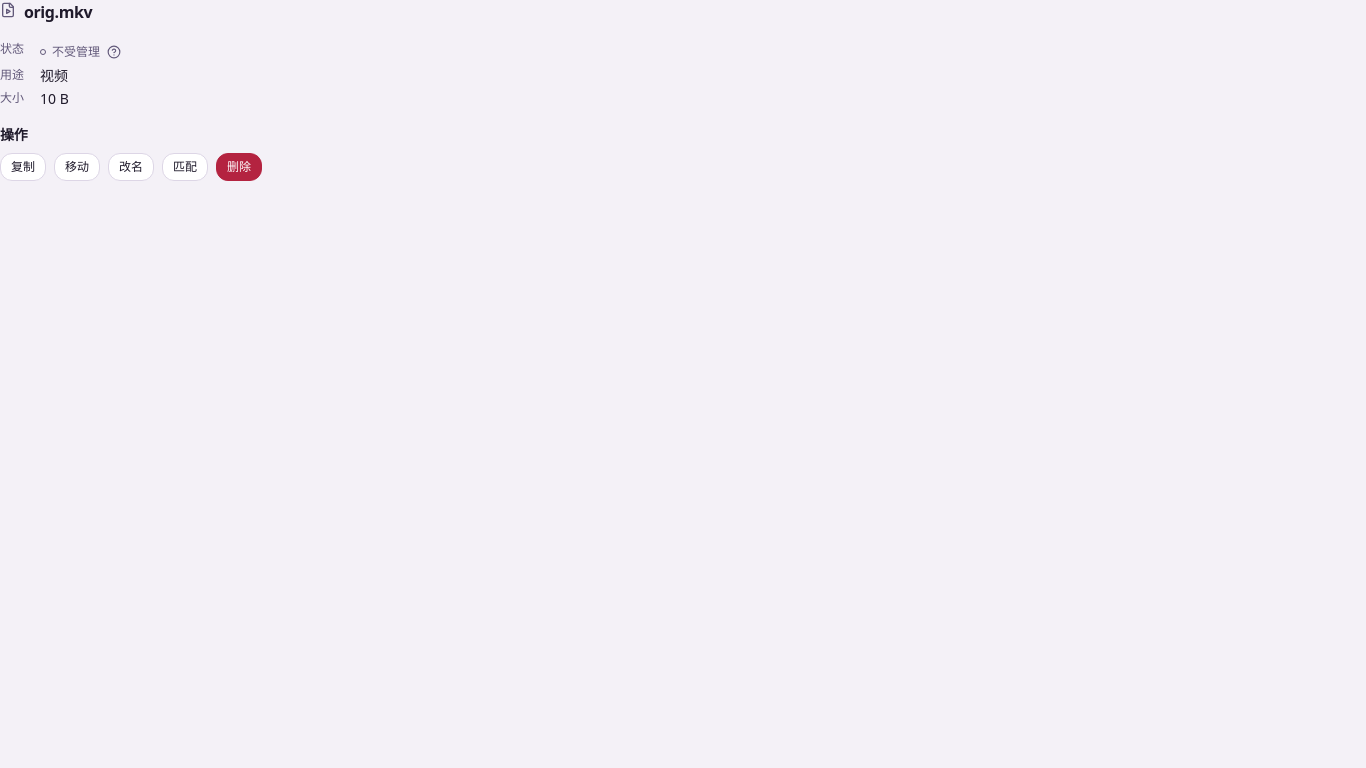
match dialog › falls back to manual season and episode when the anime has no TMDB binding
Click the button "匹配" at (185, 166), box [162, 152, 208, 180]
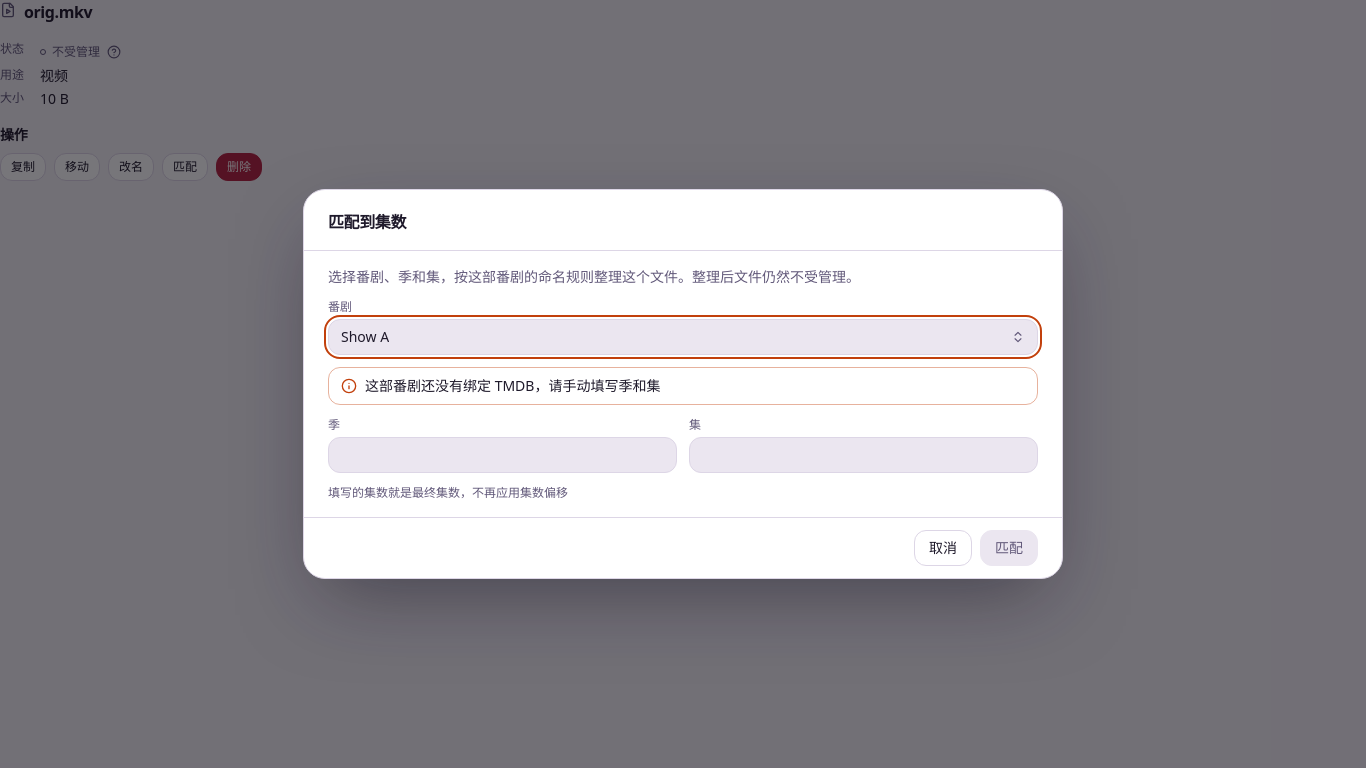
Now the text "这部番剧还没有绑定 TMDB，请手动填写季和集" is shown, box [365, 376, 660, 395]
Type "0" into the field labelled "季" at (502, 455), box [328, 437, 677, 473]
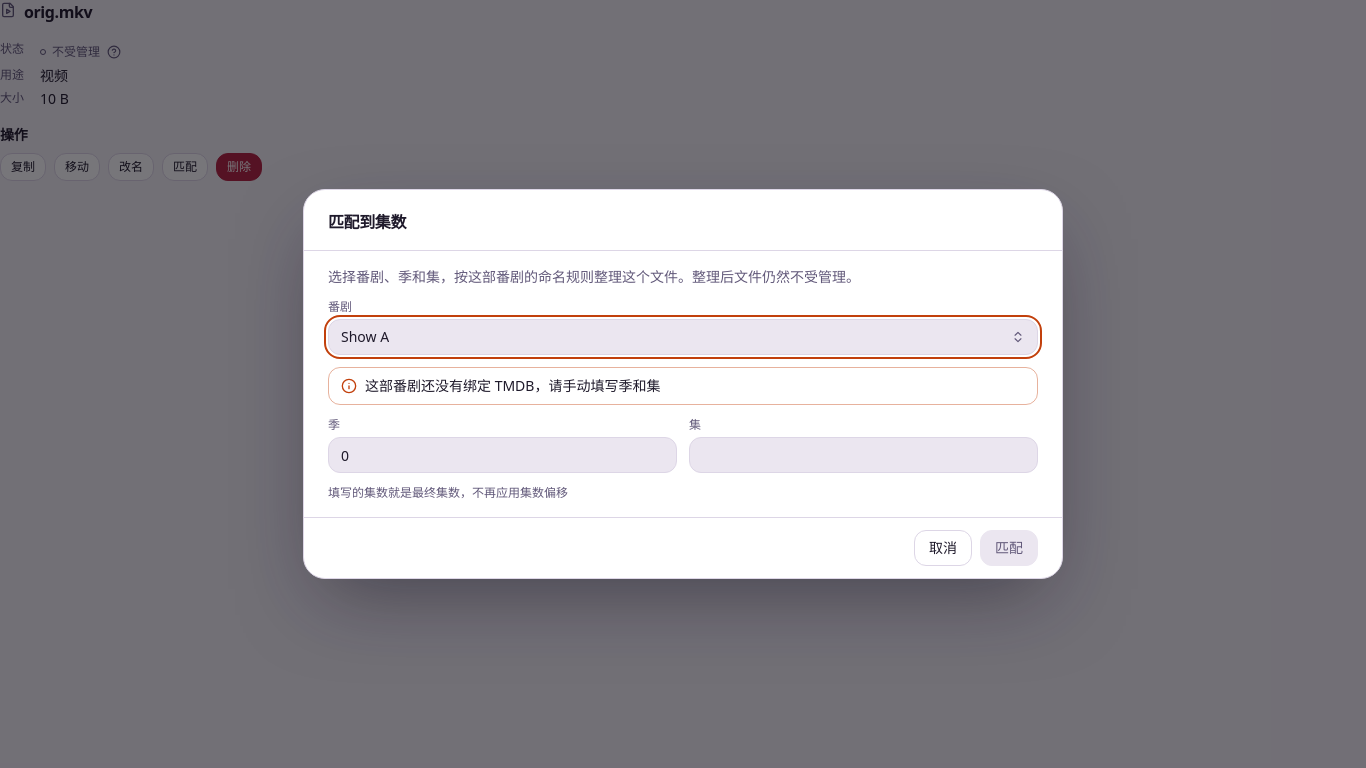
Type "5" into the field labelled "集" at (864, 455), box [689, 437, 1038, 473]
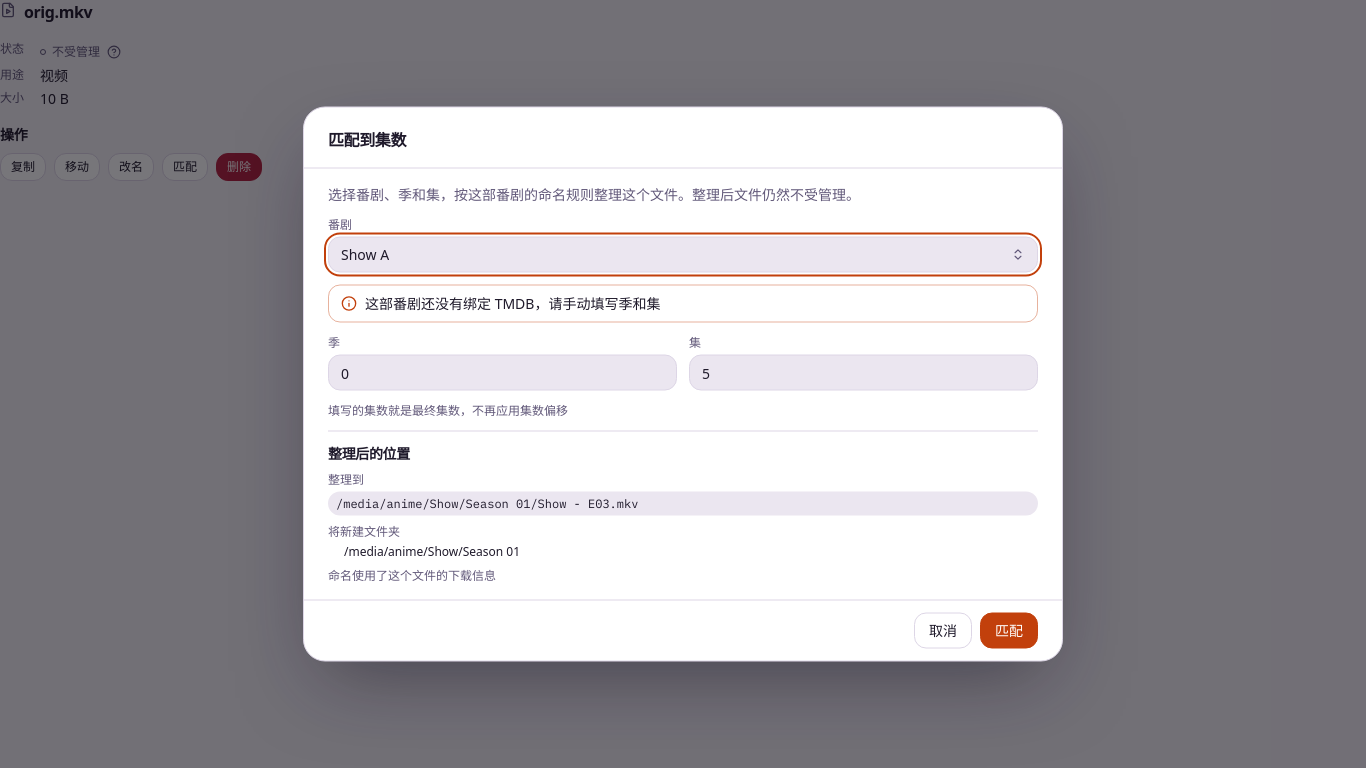
Now the text "/media/anime/Show/Season 01/Show - E03.mkv" is shown, box [328, 492, 1038, 516]
Replace the text in the field labelled "集" with "0" at (864, 372), box [689, 354, 1038, 390]
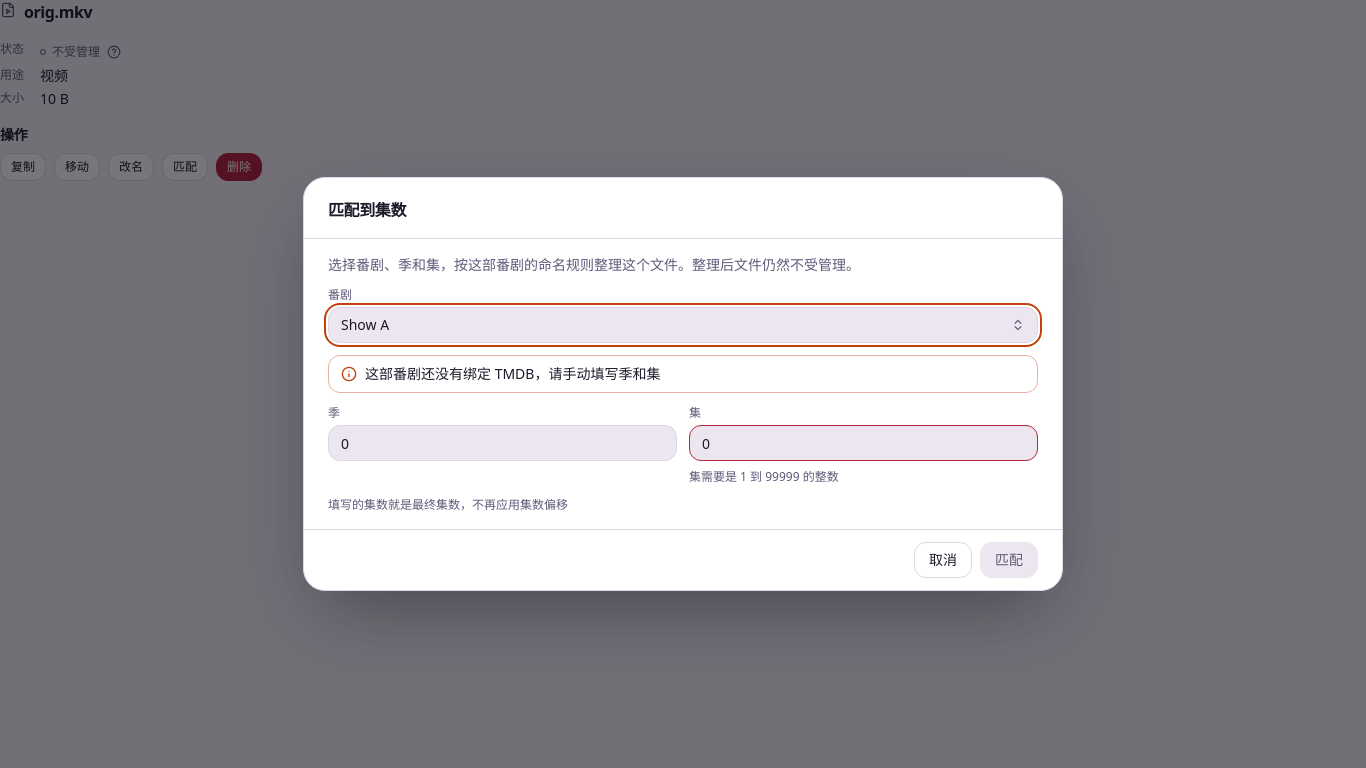
Now the text "集需要是 1 到 99999 的整数" is shown, box [689, 468, 839, 485]
Now the button "匹配" is disabled, box [980, 542, 1038, 578]
